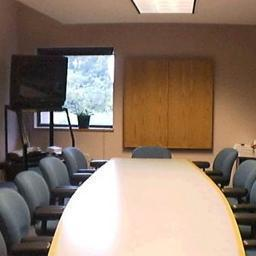Ventana: (41, 47, 112, 127)
